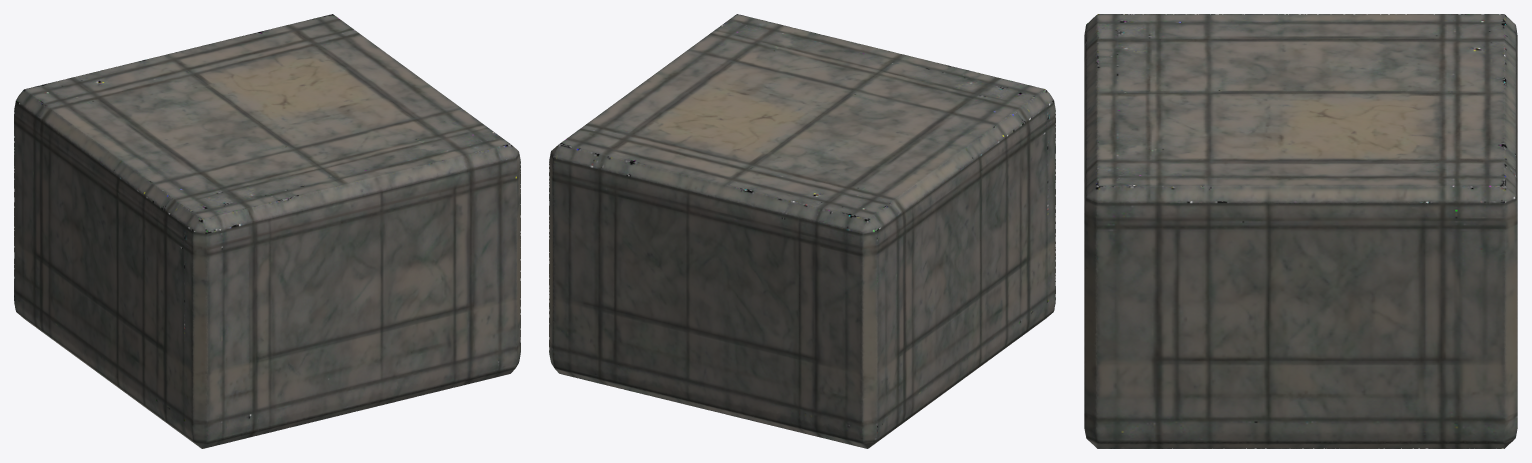
Rendered from dekor-07.glb.
3 renders of one model, left to right at view 1: azimuth 30°, elevation 25°; view 2: azimuth 150°, elevation 25°; view 3: azimuth 270°, elevation 25°, orthographic. The views are drawn at different scales.
Visible parts, largest first — view 1: geometry_0; view 2: geometry_0; view 3: geometry_0.
Boxes of the visible parts, <box> form: geometry_0: <box>14,14,520,448</box>; geometry_0: <box>549,14,1055,448</box>; geometry_0: <box>1084,14,1517,448</box>.
Size of the model in its own units: 0.9962 by 0.6665 by 0.9961.
Materials: 1 (1 with a texture image).
